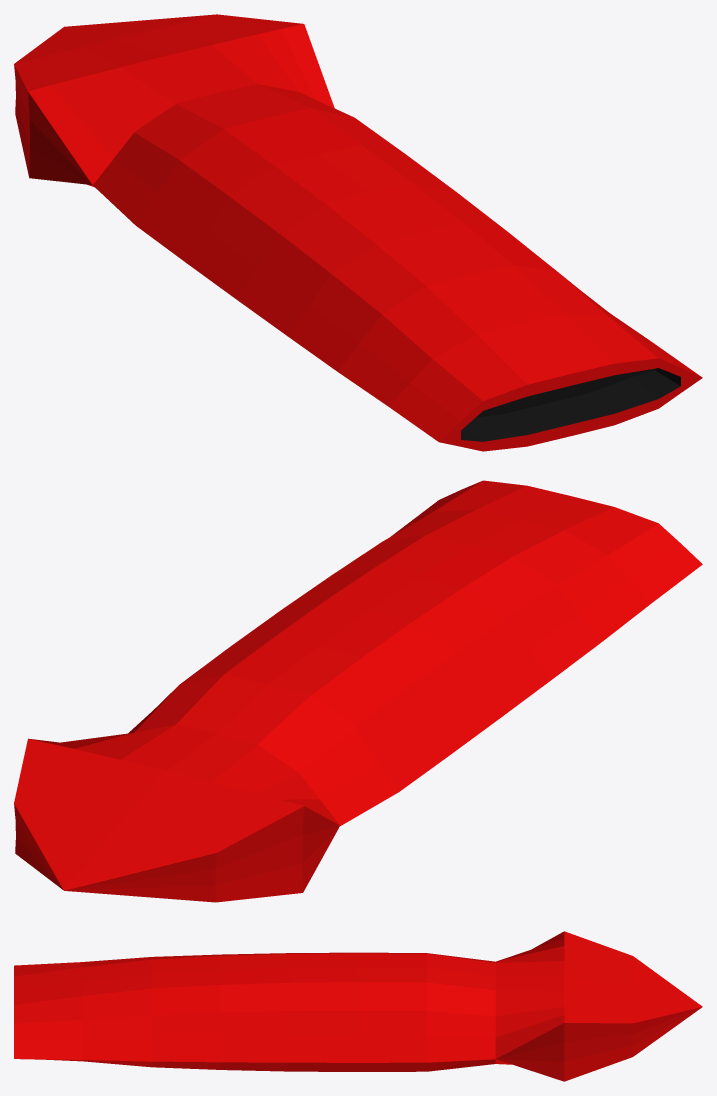
Rendered from C0.Cowl.2d.Export.glb.
3 renders of one model, top to bottom at view 1: azimuth 30°, elevation 25°; view 2: azimuth 150°, elevation 25°; view 3: azimuth 270°, elevation 25°, orthographic. The views are drawn at different scales.
Visible parts, largest first — view 1: Cube.002; view 2: Cube.002; view 3: Cube.002.
Boxes of the visible parts, left/top/right/bottom form: Cube.002: left=14, top=14, right=702, bottom=451; Cube.002: left=14, top=480, right=702, bottom=902; Cube.002: left=14, top=931, right=702, bottom=1081.
Bounding box in the file's own units: 0.6242 × 0.2699 × 1.98.
